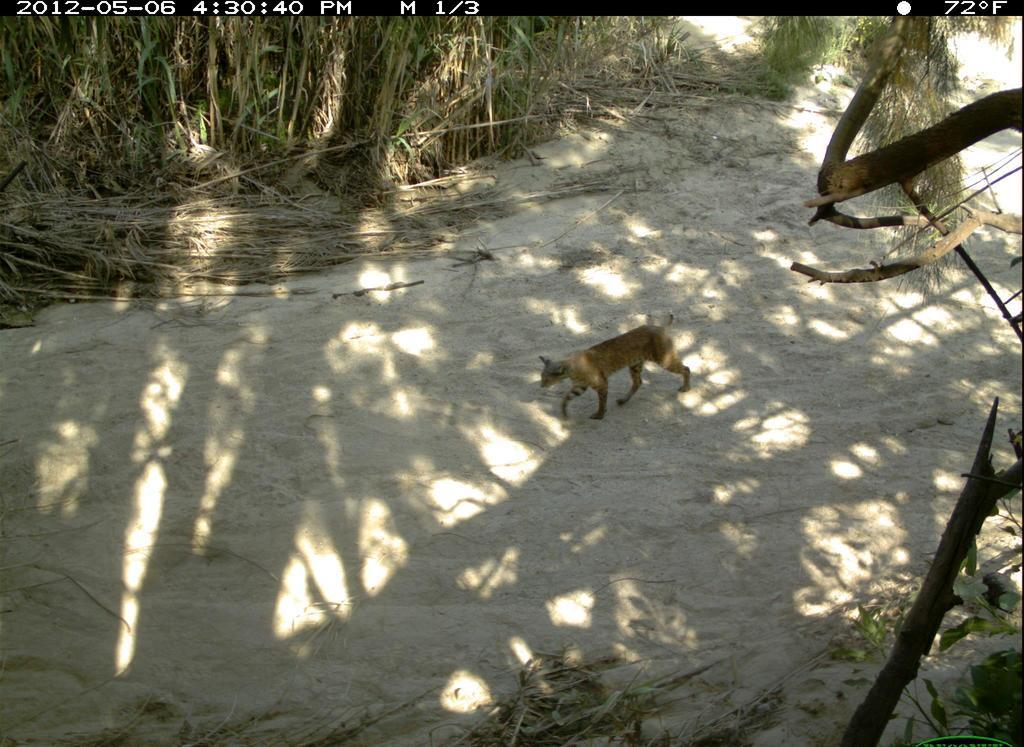bobcat: (525, 305, 693, 437)
